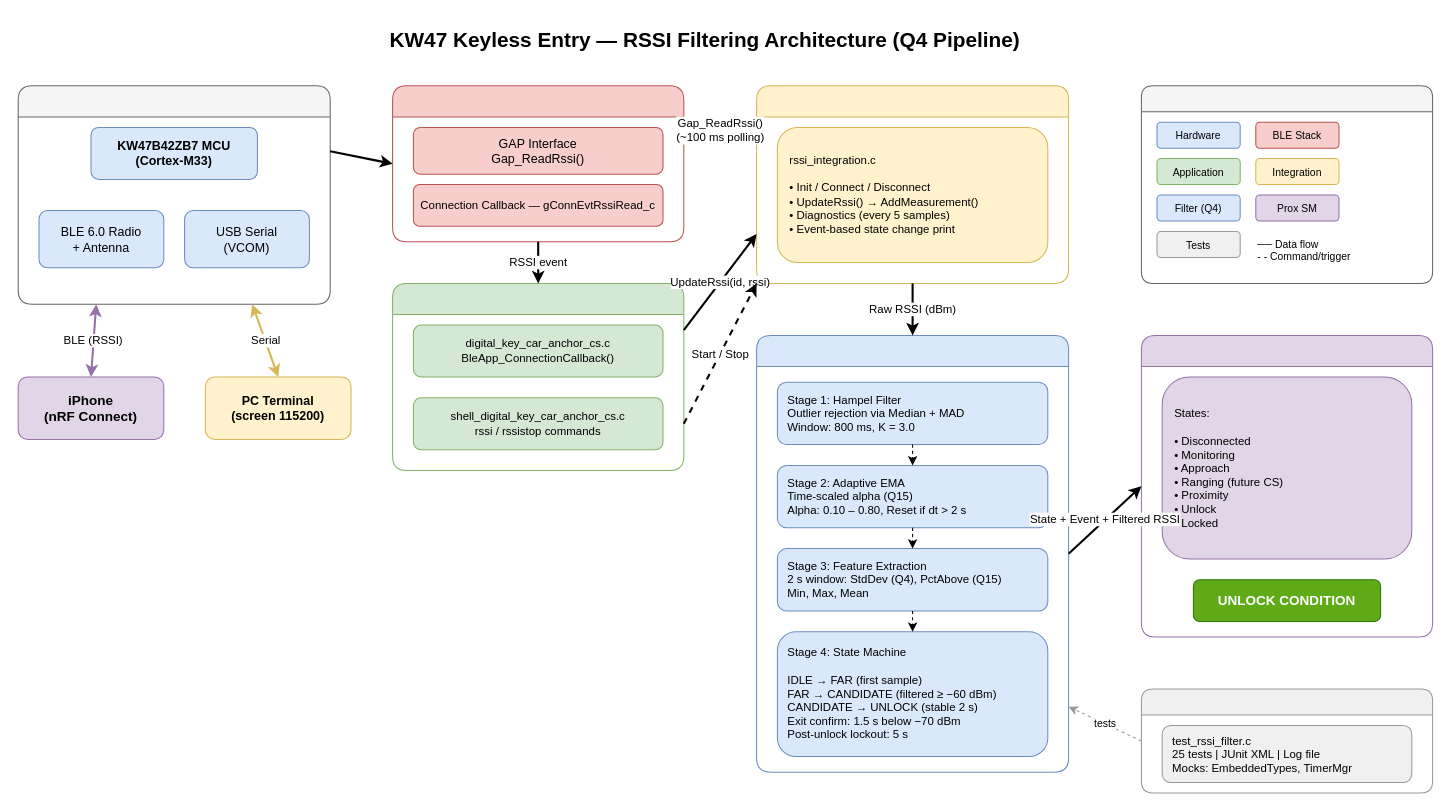
Image size: 1451x811. Some labels were removed from this diagram. Here are the shapes that lost their labels. From the top down, the box of each, then its label:
(392, 85, 684, 242): BLE Stack (NXP SDK)
(17, 85, 330, 304): Hardware Layer
(756, 85, 1069, 283): RSSI Integration Layer
(1140, 85, 1433, 283): Legend
(392, 282, 684, 471): Application Layer
(1140, 334, 1433, 637): Proximity State Machine
(756, 334, 1069, 772): RSSI Filter Module (rssi_filter.c / .h)
(1140, 688, 1433, 793): Unit Tests (Host)
